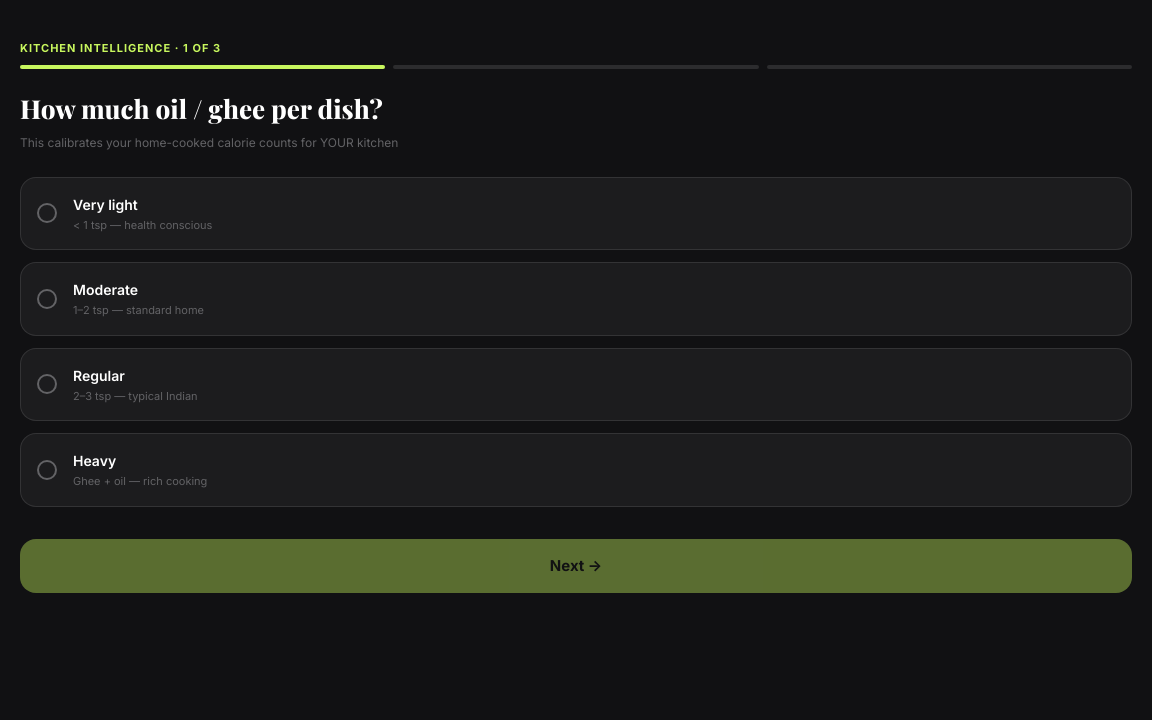
OnboardingPage › selecting an option enables the Next button
// Click "Moderate" option
Click the text "Moderate". click: (106, 290)
box: 73,281 -> 138,298
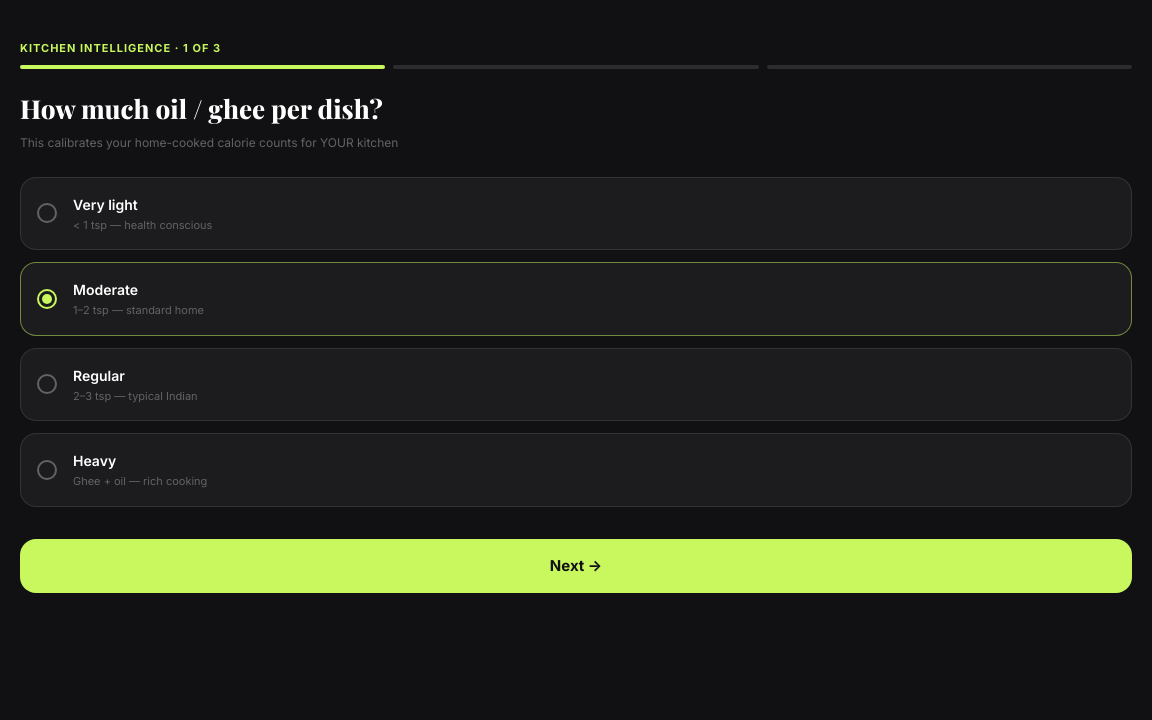
expect the button "Next →" is enabled: met, box 20,538 -> 1132,593
